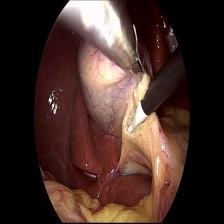Grasper: (98, 6, 155, 92)
Hook: (121, 71, 171, 146)
